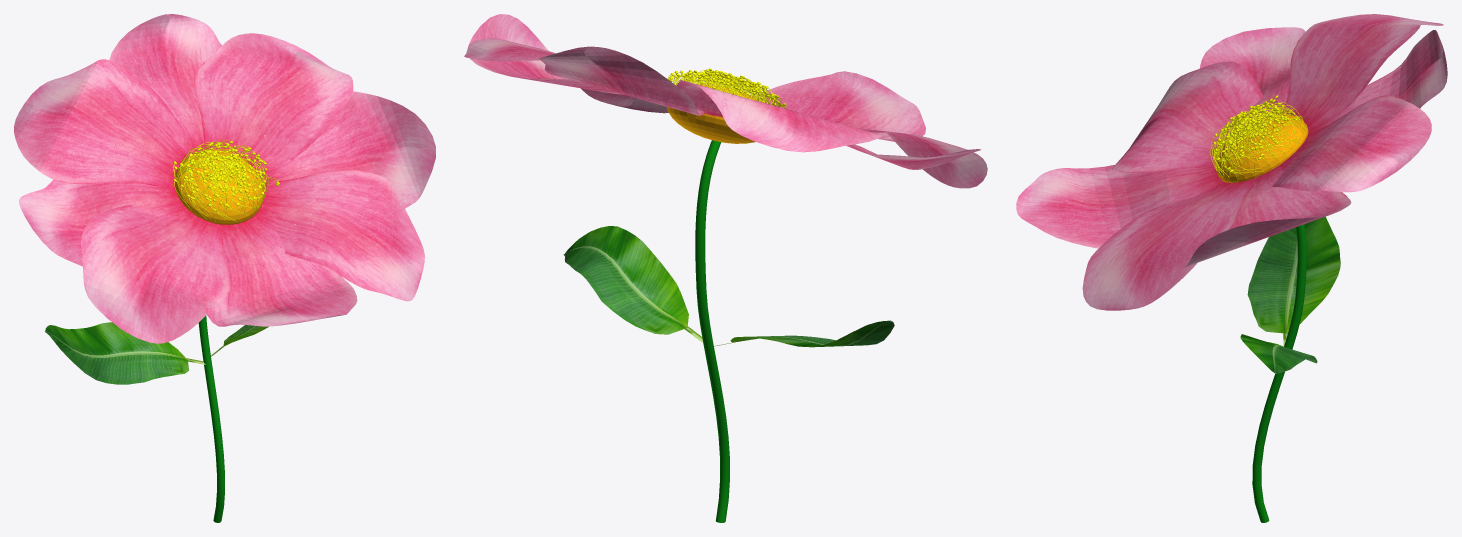
File: Flowe.fbx
The picture shows the model from 3 angles, left to right: view 1: azimuth 30°, elevation 25°; view 2: azimuth 150°, elevation 25°; view 3: azimuth 270°, elevation 25°; orthographic projection. The views are drawn at different scales.
Parts seen in each view (by area): view 1: Petal.003, Petal.001, Petal.005, Petal.007, Petal.004, Petal.002, Petal, Petal.006, Leaf, PollenBase, Stem; view 2: Leaf.001, Petal.004, Petal.003, Petal, Stem, Petal.002, Petal.001, Leaf, Petal.005, PollenBase2, Petal.006, Petal.007; view 3: Petal.007, Petal.004, Petal.005, Petal.001, Petal.003, Leaf, Petal.002, Petal.006, Petal, PollenBase, Stem, Leaf.001.
Boxes of the visible parts, <box> form: Petal.003: <box>14,59,190,187</box>; Petal.001: <box>81,204,230,343</box>; Petal.005: <box>194,33,353,165</box>; Petal.007: <box>254,169,424,301</box>; Petal.004: <box>204,216,357,326</box>; Petal.002: <box>254,91,435,211</box>; Petal: <box>109,14,221,153</box>; Petal.006: <box>19,179,189,266</box>; Leaf: <box>45,322,205,384</box>; PollenBase: <box>175,149,263,223</box>; Stem: <box>198,315,224,522</box>; Leaf.001: <box>563,226,703,342</box>; Petal.004: <box>753,71,925,141</box>; Petal.003: <box>676,80,882,152</box>; Petal: <box>539,46,716,116</box>; Stem: <box>695,140,729,522</box>; Petal.002: <box>468,14,624,94</box>; Petal.001: <box>858,128,987,188</box>; Leaf: <box>714,320,894,347</box>; Petal.005: <box>464,38,555,61</box>; PollenBase2: <box>667,107,755,143</box>; Petal.006: <box>846,144,980,169</box>; Petal.007: <box>581,88,668,113</box>; Petal.007: <box>1082,178,1254,310</box>; Petal.004: <box>1016,165,1223,248</box>; Petal.005: <box>1272,95,1431,192</box>; Petal.001: <box>1112,61,1263,172</box>; Petal.003: <box>1283,14,1443,128</box>; Leaf: <box>1247,217,1340,346</box>; Petal.002: <box>1183,165,1351,267</box>; Petal.006: <box>1199,27,1305,123</box>; Petal: <box>1308,30,1447,134</box>; PollenBase: <box>1216,114,1307,181</box>; Stem: <box>1252,224,1306,522</box>; Leaf.001: <box>1240,334,1317,374</box>.
Bounding box in the file's own units: 97.7 × 106 × 84.46.
